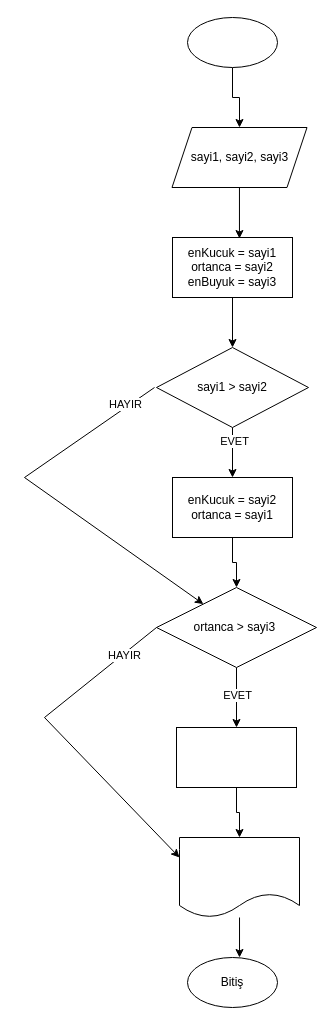
This 334x1025 diagram has some shape labels left out. Here are the shapes that lost their labels. From the top down, the centre of each, then its label:
At [232,42]: "Giriş".
At [236,757]: "enKucuk = sayi2 ortanca = sayi3 enBuyuk = sayi1".
At [239,877]: "ortanca".
